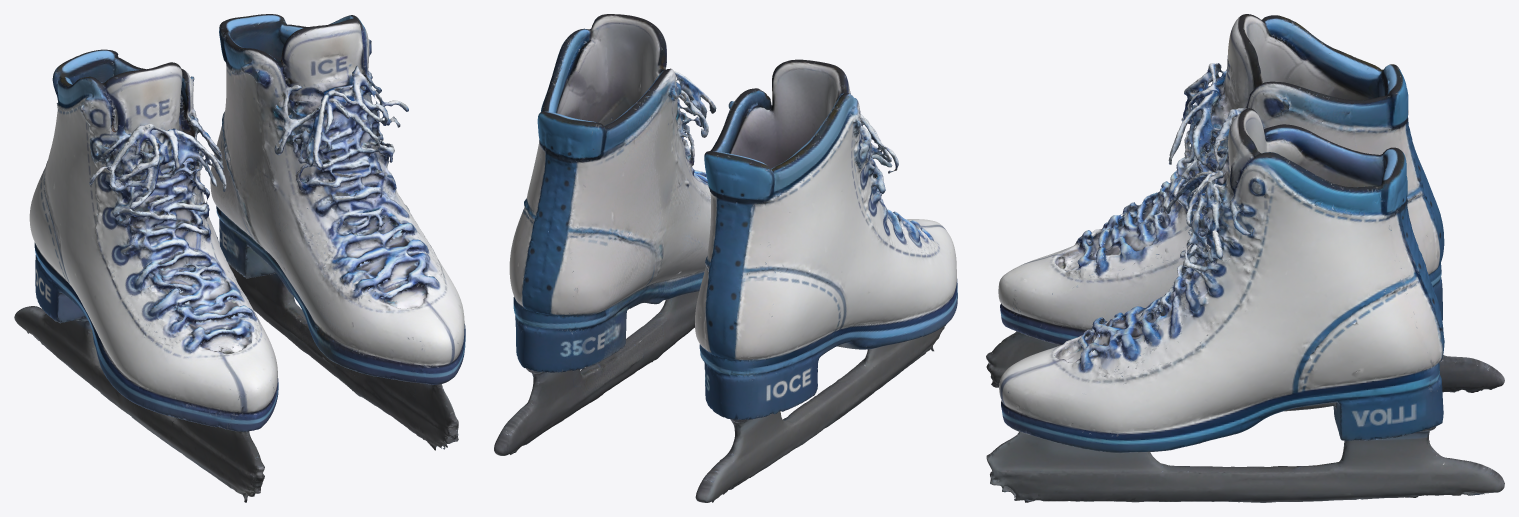
The model's file is Meshy_AI_Frost_Glide_0823130947_texture.fbx.
The picture shows the model from 3 angles, left to right: view 1: azimuth 30°, elevation 25°; view 2: azimuth 150°, elevation 25°; view 3: azimuth 270°, elevation 25°; orthographic projection. The views are drawn at different scales.
Visible parts, largest first — view 1: Mesh_0; view 2: Mesh_0; view 3: Mesh_0.
Boxes of the visible parts, <box> form: Mesh_0: <box>14,14,465,502</box>; Mesh_0: <box>494,14,957,502</box>; Mesh_0: <box>986,14,1504,502</box>.
Size of the model in its own units: 157 by 163 by 200.
Materials: 1 (1 with a texture image).
